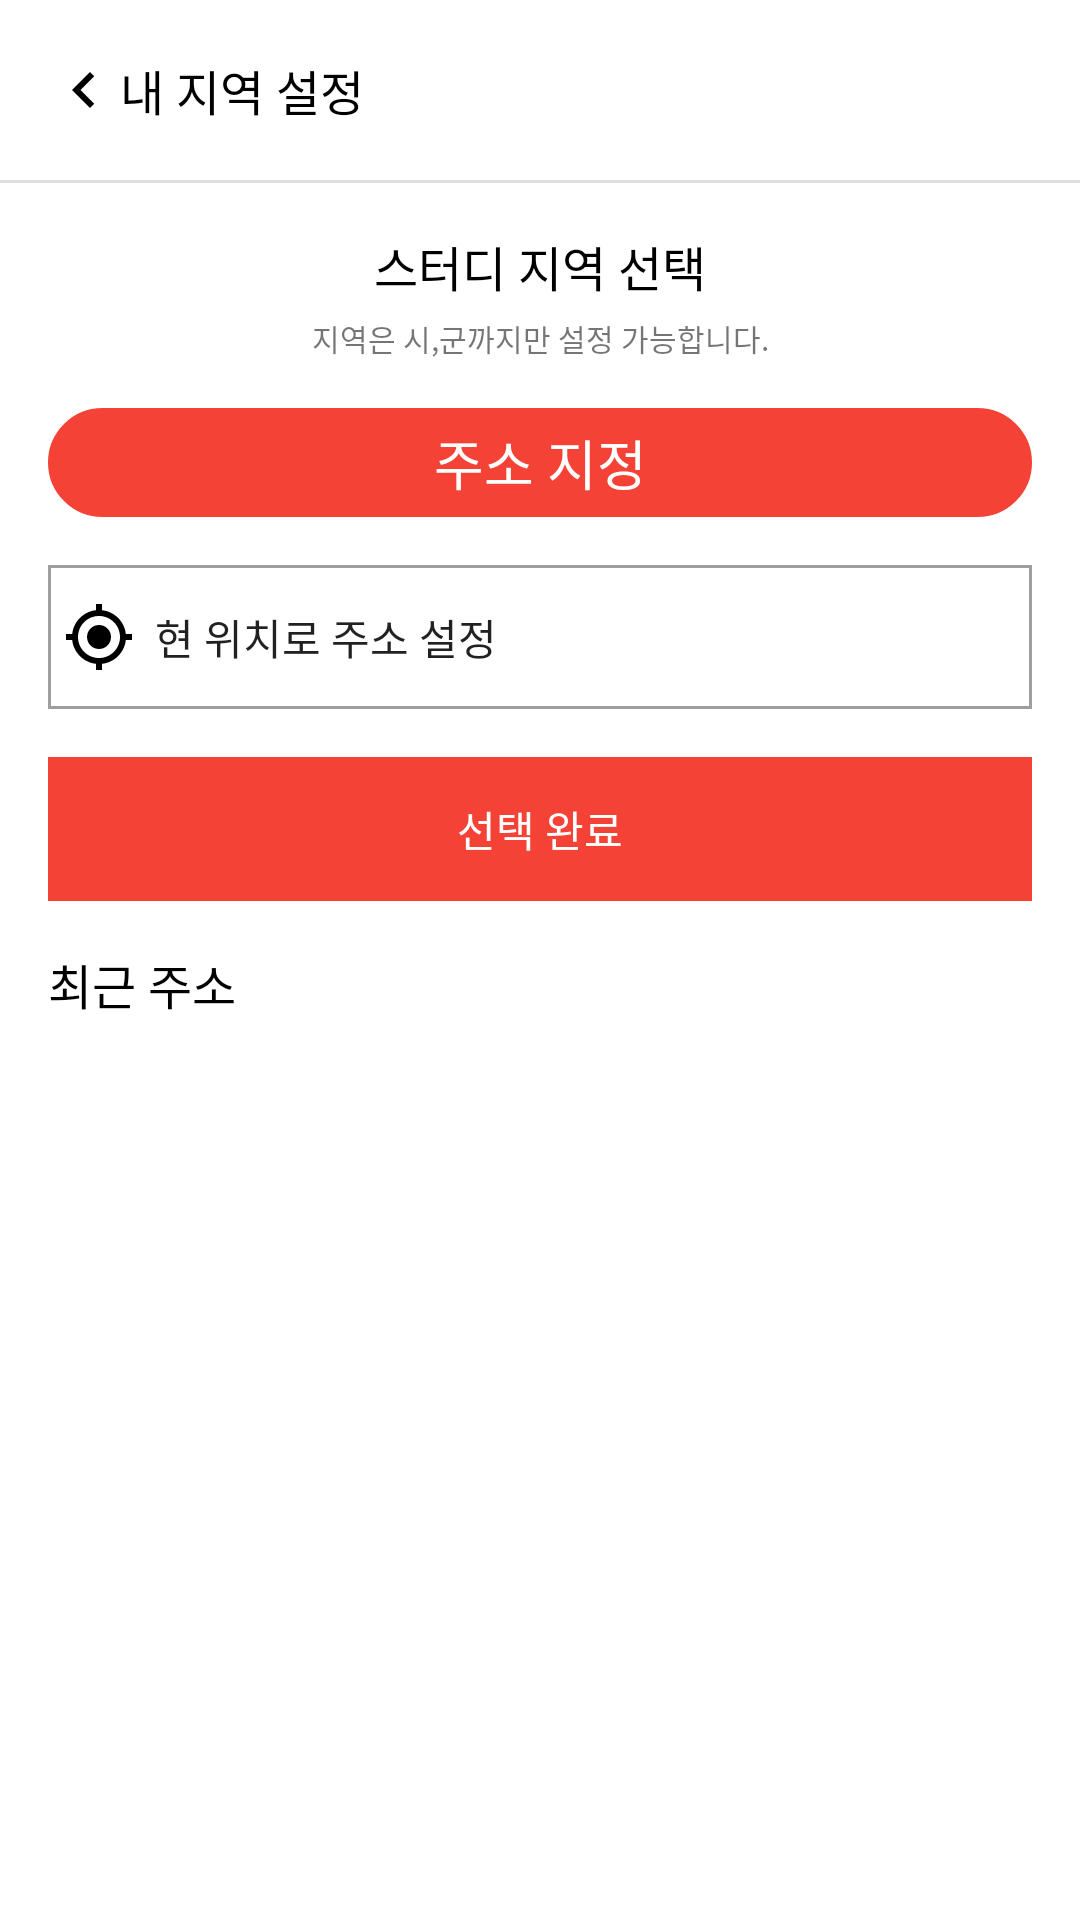

Screen size 1080px×1920px. Icon name, then its box in pixels as (x1, y1, x2, y2):
left arrow: (72, 72, 94, 108)
